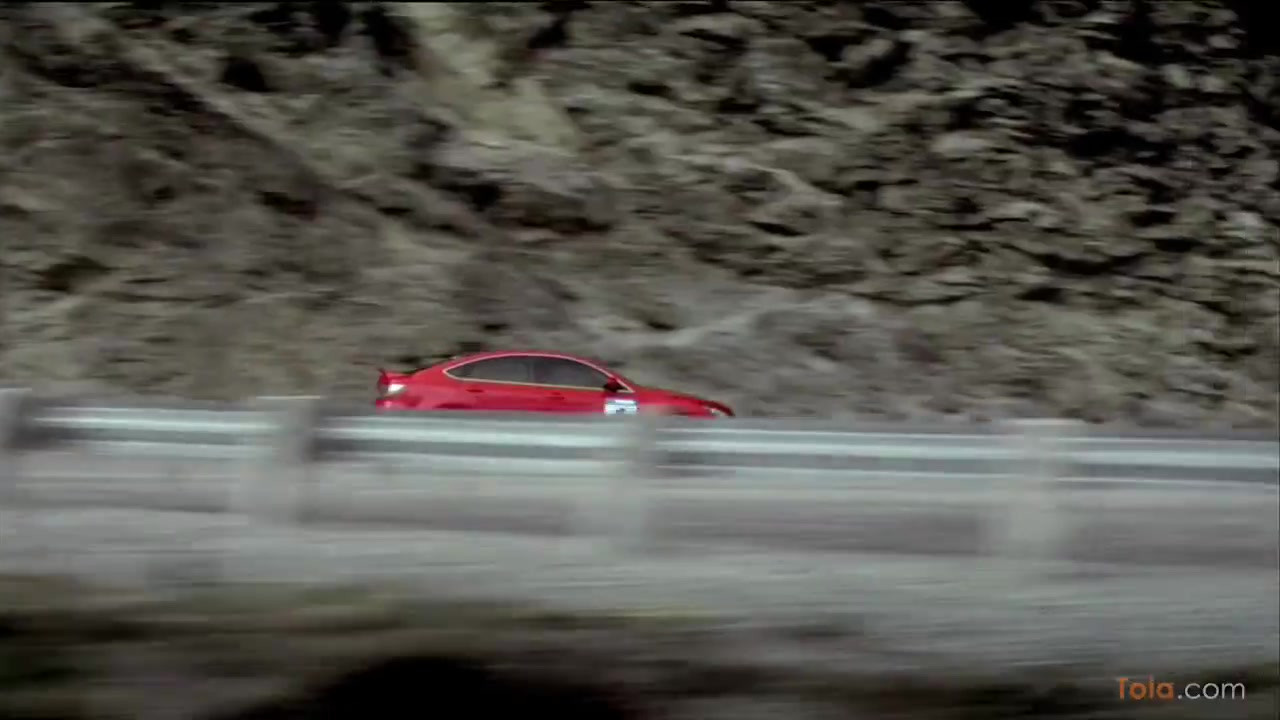car: (366, 337, 738, 424)
